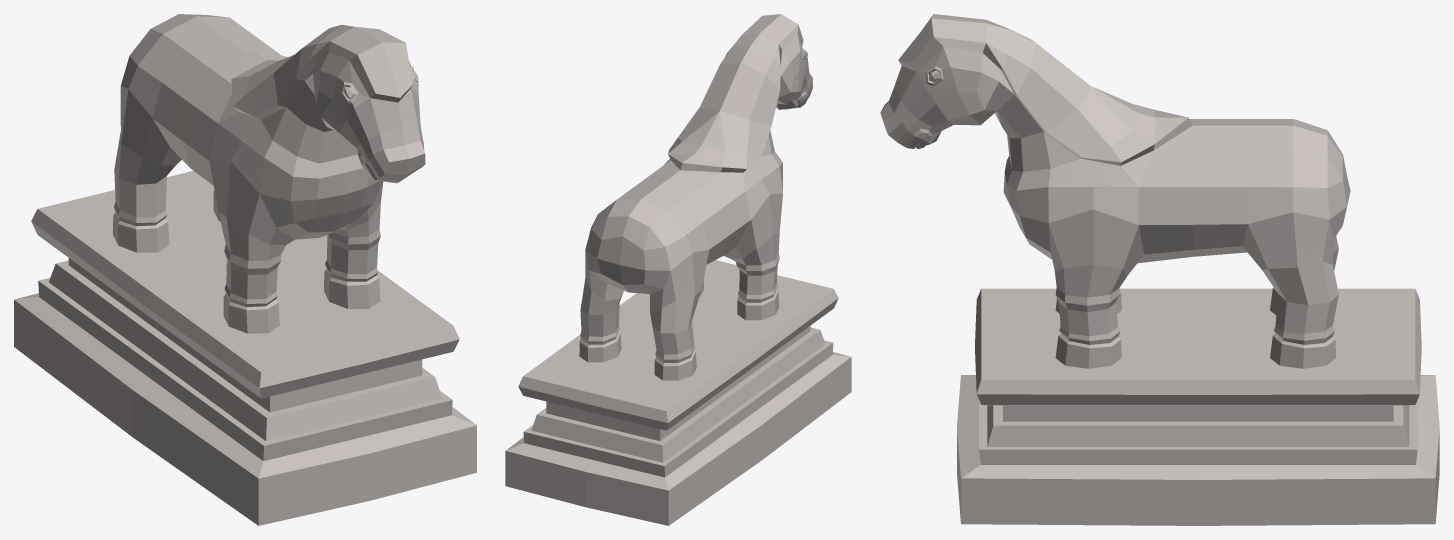
The model's file is SM_Sculpture_10.fbx.
3 renders of one model, left to right at view 1: azimuth 30°, elevation 25°; view 2: azimuth 150°, elevation 25°; view 3: azimuth 270°, elevation 25°, orthographic. The views are drawn at different scales.
Visible parts, largest first — view 1: SM_Sculpture_10; view 2: SM_Sculpture_10; view 3: SM_Sculpture_10.
Boxes of the visible parts, x1,y1,x2,y2 form: SM_Sculpture_10: [14, 14, 476, 525]; SM_Sculpture_10: [505, 14, 851, 525]; SM_Sculpture_10: [880, 14, 1439, 525].
Size of the model in its own units: 224 by 445 by 496.
